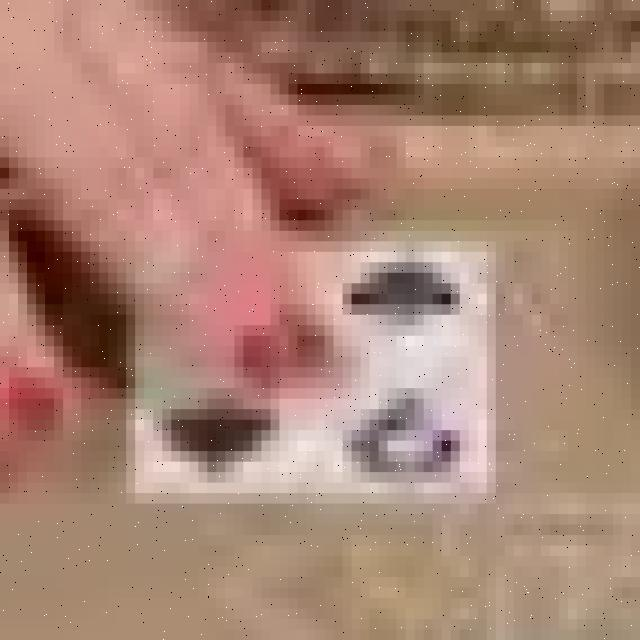Card-9: (129, 251, 496, 505)
